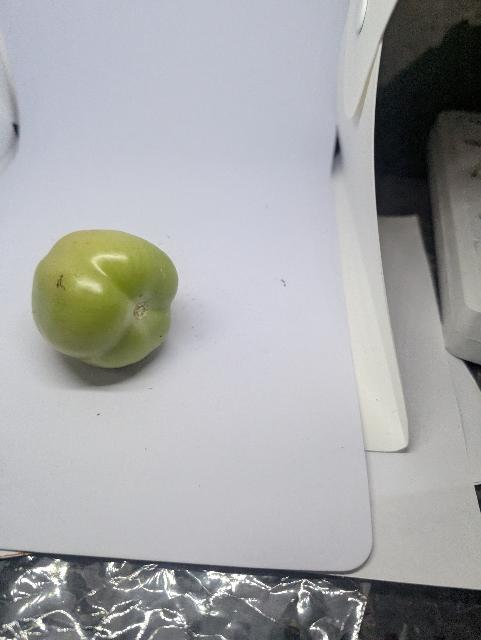green: (31, 228, 181, 373)
